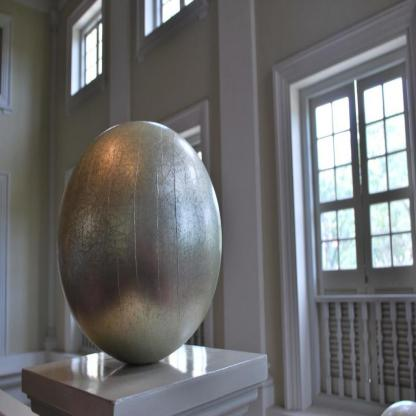Ball: (56, 121, 223, 363)
